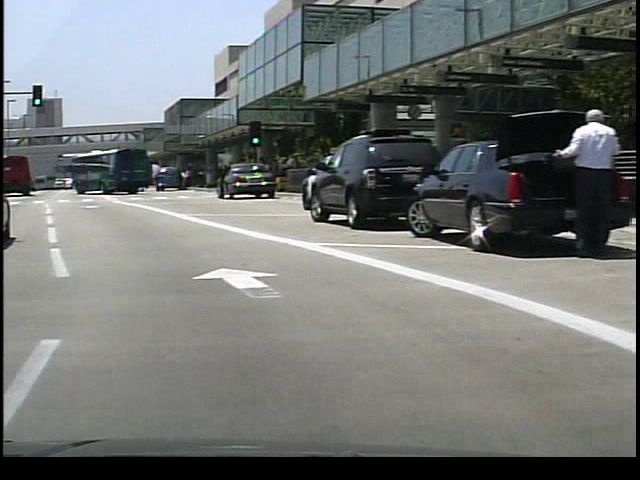person: (539, 97, 614, 262)
